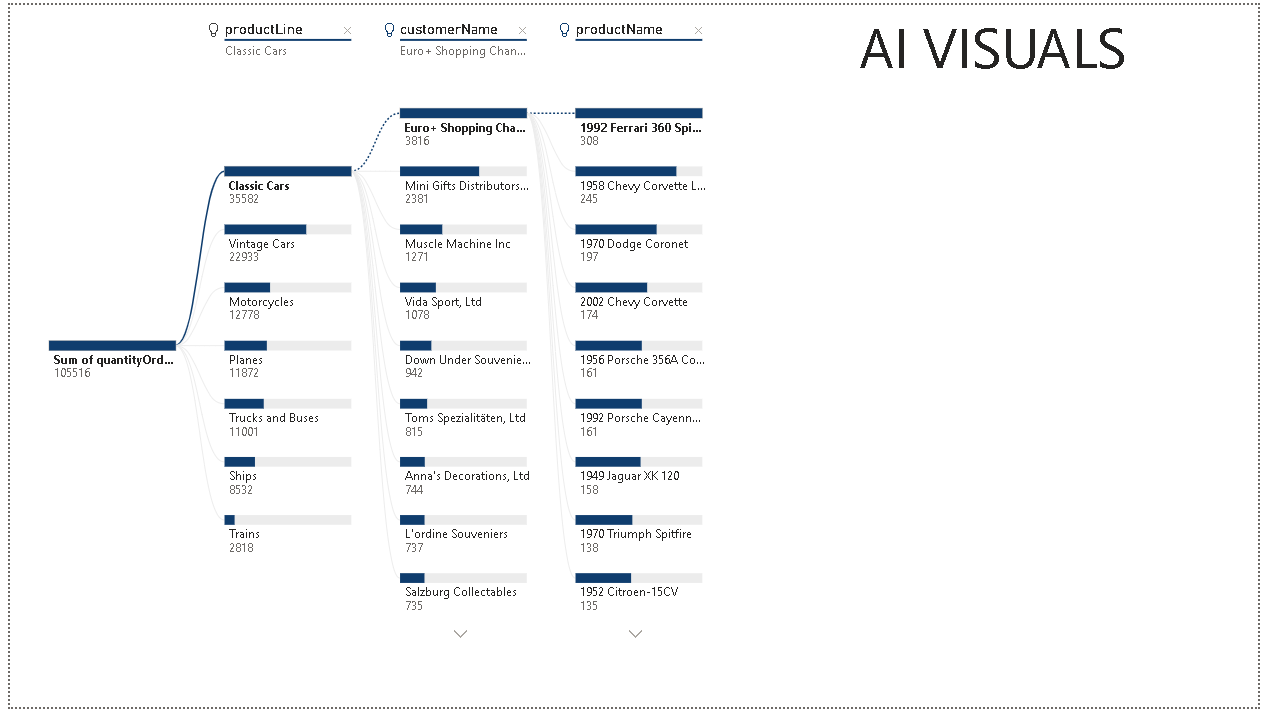

Layout of this report page (visuals, bound fields, positions):
{"tool":"powerbi","page":{"name":"Ai Visuals","canvas":[1280,720],"ordinal":3},"visuals":[{"type":"decompositionTreeVisual","fields":{"Analyze":["Sum(order details.quantityOrdered)"],"ExplainBy":["productlines.productLine","customers.customerName","products.productName"]},"box":[10.3,0,846.2,676.9],"z":0},{"type":"textbox","box":[865.4,0,414.1,135.9],"z":1}]}

Visuals, with their boxes in screenshot pixels (x1, y1, x2, y2), scaled from the page's 1280x720 canvas onto the 1266x713 screenshot:
decompositionTreeVisual - Sum(order details.quantityOrdered) x productlines.productLine: {"x1": 10, "y1": 0, "x2": 847, "y2": 670}
textbox: {"x1": 856, "y1": 0, "x2": 1265, "y2": 135}
